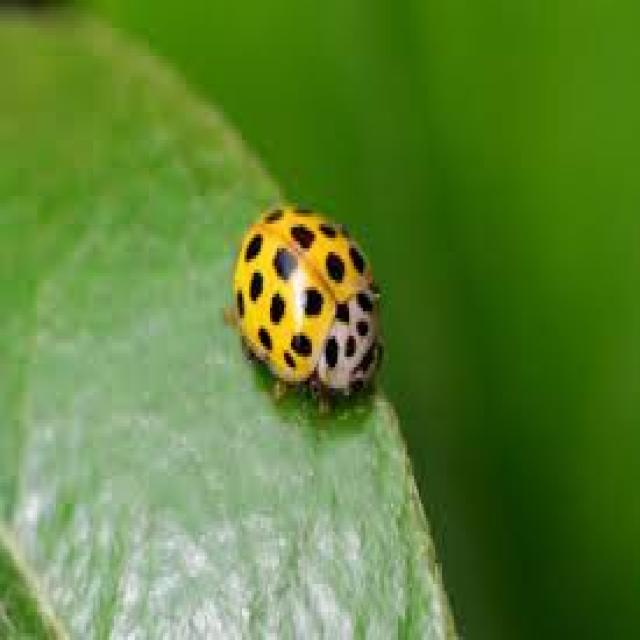ladybug: (233, 206, 379, 392)
